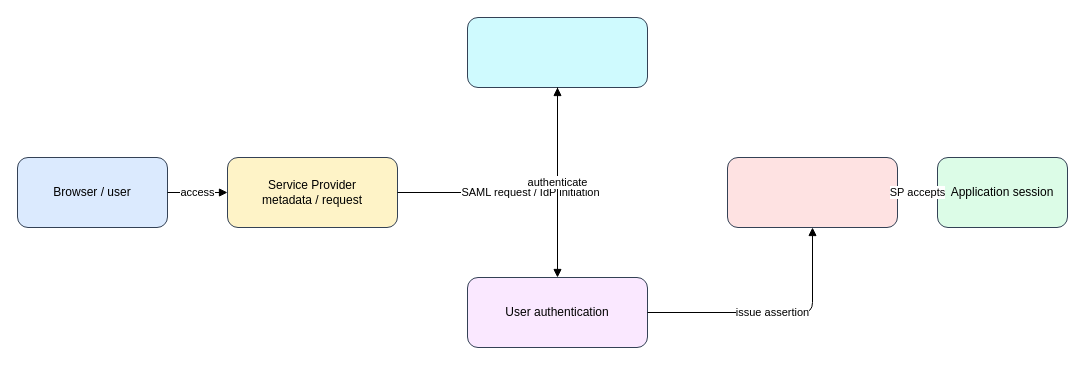
Some shapes in this 1085 by 365 pixel diagram are drawn without their labels. Each missing label, with the centre of its shape:
"FAC IdP portal interface service" goes at pixel 557 52.
"Signed assertion ACS response" goes at pixel 812 192.
